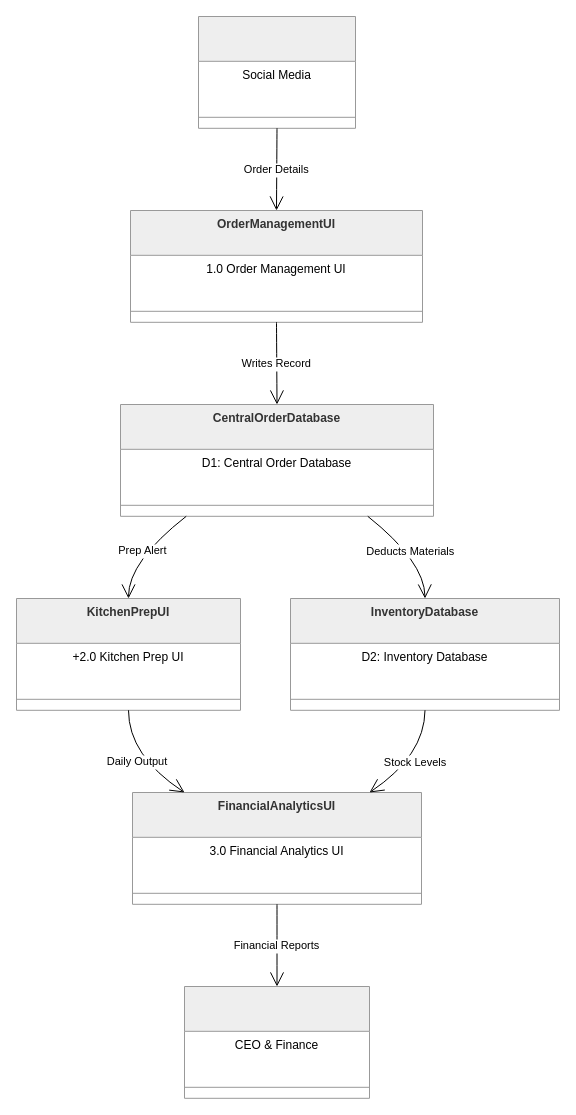
This 576x1115 diagram has some shape labels left out. The box of each missing label's shape, as (x1, y1, x2, y2) in pixels:
Customer: (198, 16, 356, 128)
Management: (184, 986, 370, 1098)
